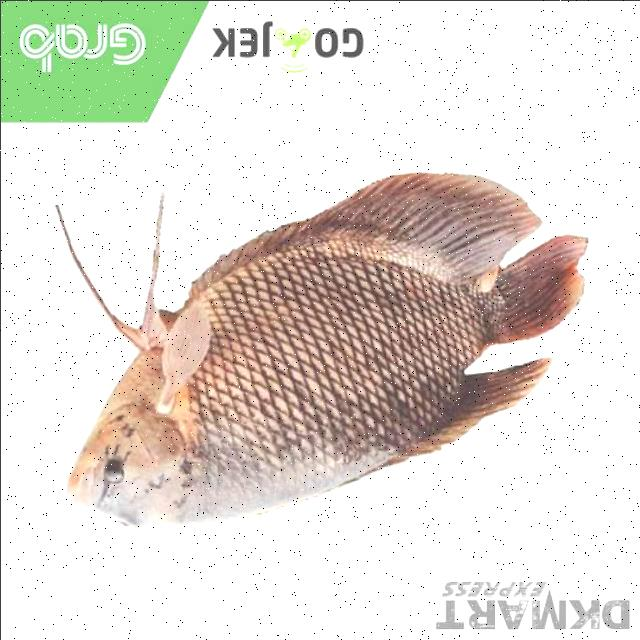Mulut: (47, 422, 143, 534)
Sirip Anal: (170, 156, 556, 296)
Sirip Dada: (132, 270, 240, 428)
Sirip Ekor: (464, 205, 606, 358)
Sirip Punggung: (364, 346, 560, 489)
